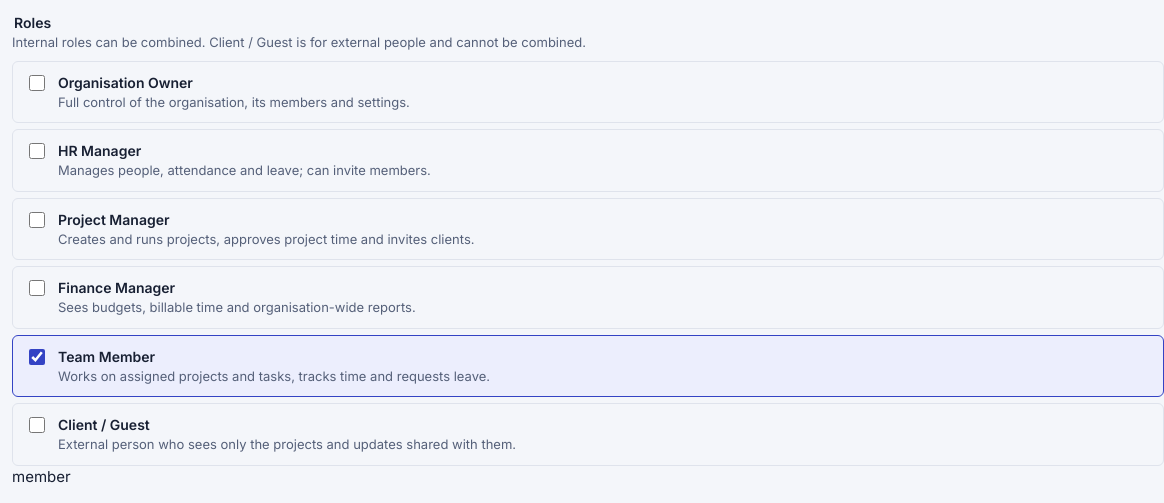
it: RolePicker › keeps Client / Guest exclusive of internal roles
Click the checkbox labelled "Project Manager" at {"x": 37, "y": 220}, box [29,212,45,228]
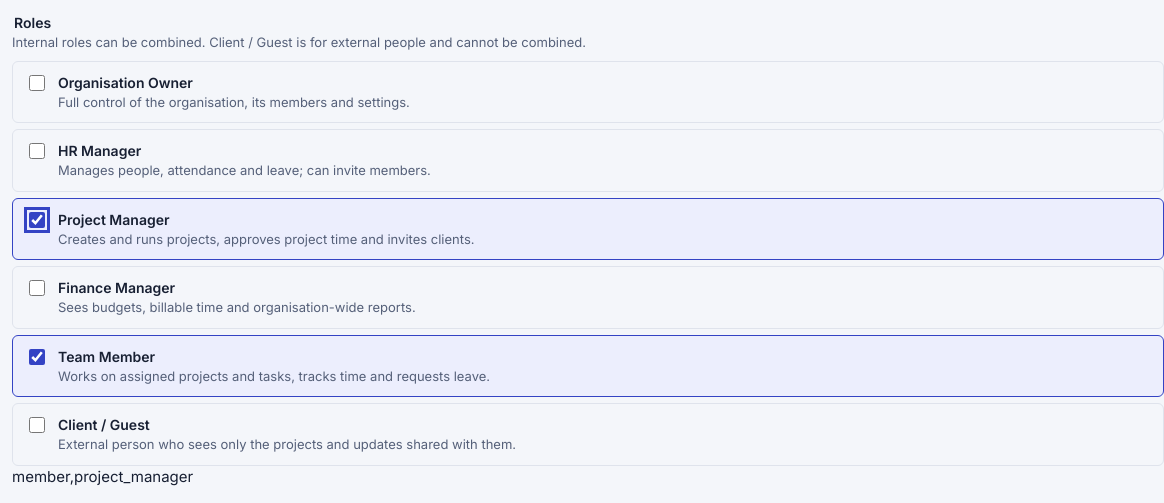
Expected: the text with test id "value" reads "member,project_manager", [12,466,193,486]
Click the checkbox labelled "Client / Guest" at {"x": 37, "y": 425}, box [29,417,45,433]
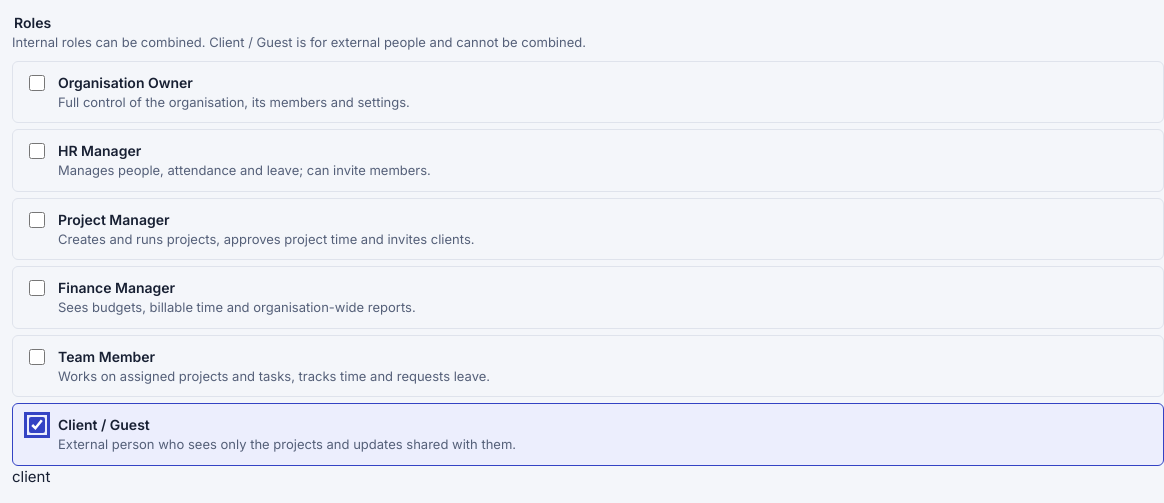
Expected: the text with test id "value" reads "client", [12,466,50,486]
Click the checkbox labelled "Team Member" at {"x": 37, "y": 356}, box [29,348,45,364]
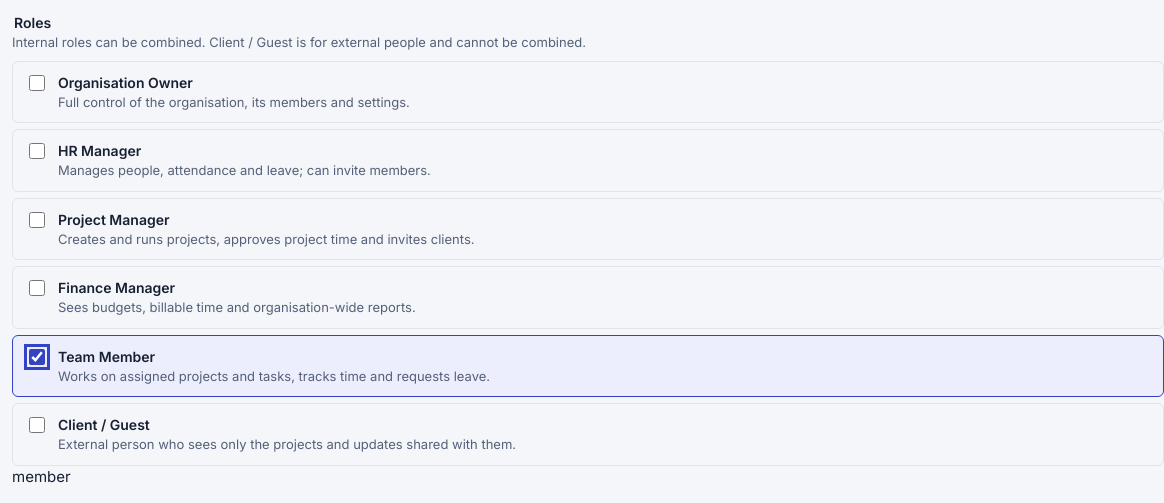
Expected: the text with test id "value" reads "member", [12,466,71,486]
